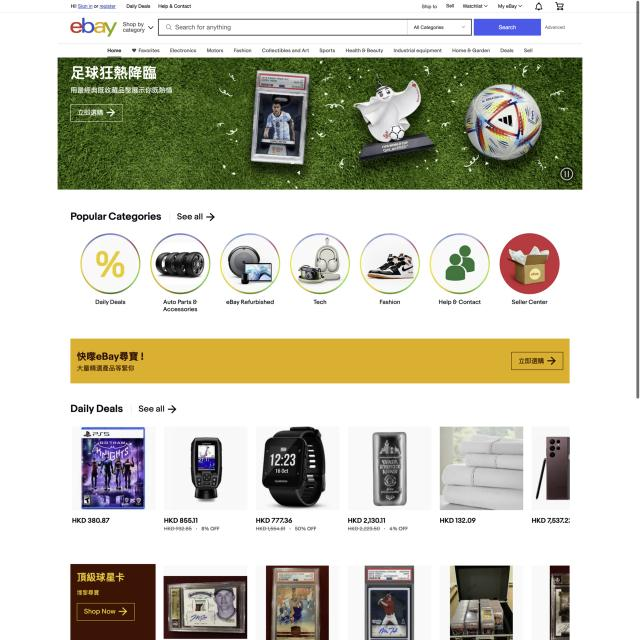input: (158, 18, 472, 36)
logo: (69, 16, 118, 39)
navigation: (78, 231, 562, 315), (97, 46, 538, 58)
